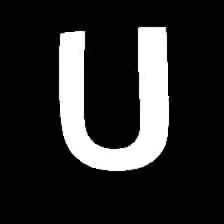LTR_U: (47, 16, 178, 177)
